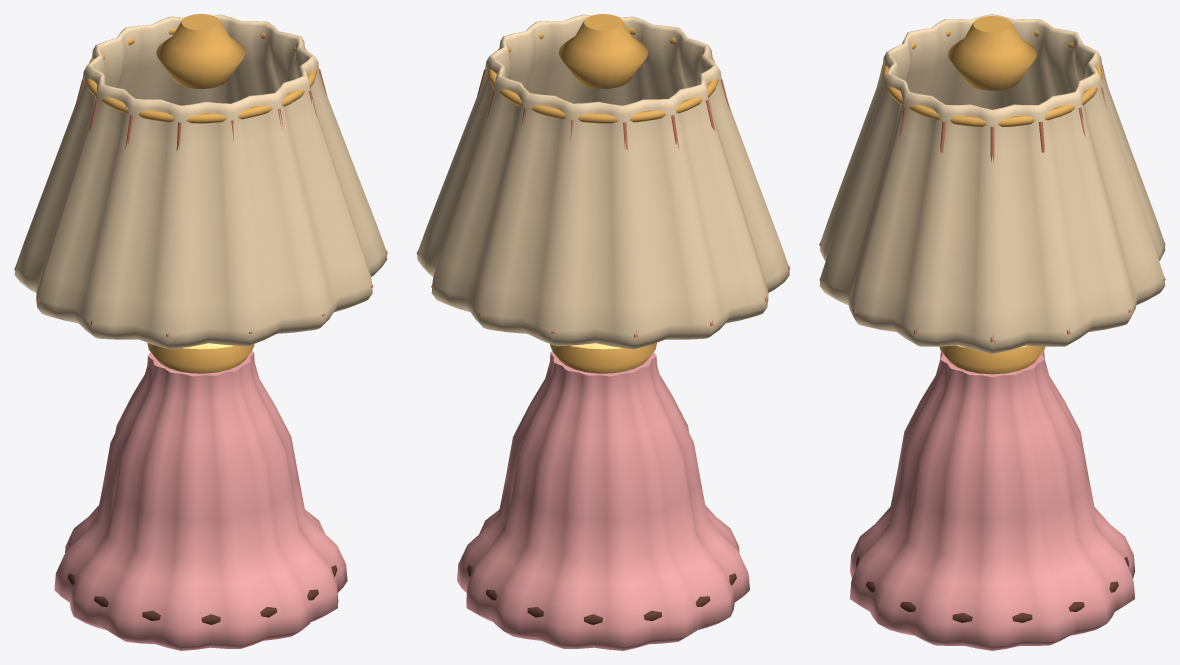
File: atelier_scallop_lamp.glb
The picture shows the model from 3 angles, left to right: view 1: azimuth 30°, elevation 25°; view 2: azimuth 150°, elevation 25°; view 3: azimuth 270°, elevation 25°; orthographic projection.
Visible parts, largest first — view 1: Lámpara plisada; view 2: Lámpara plisada; view 3: Lámpara plisada.
Boxes of the visible parts, <box> form: Lámpara plisada: <box>14,14,387,650</box>; Lámpara plisada: <box>416,14,790,650</box>; Lámpara plisada: <box>819,14,1165,650</box>.
Size of the model in its own units: 0.5239 by 0.88 by 0.48.
